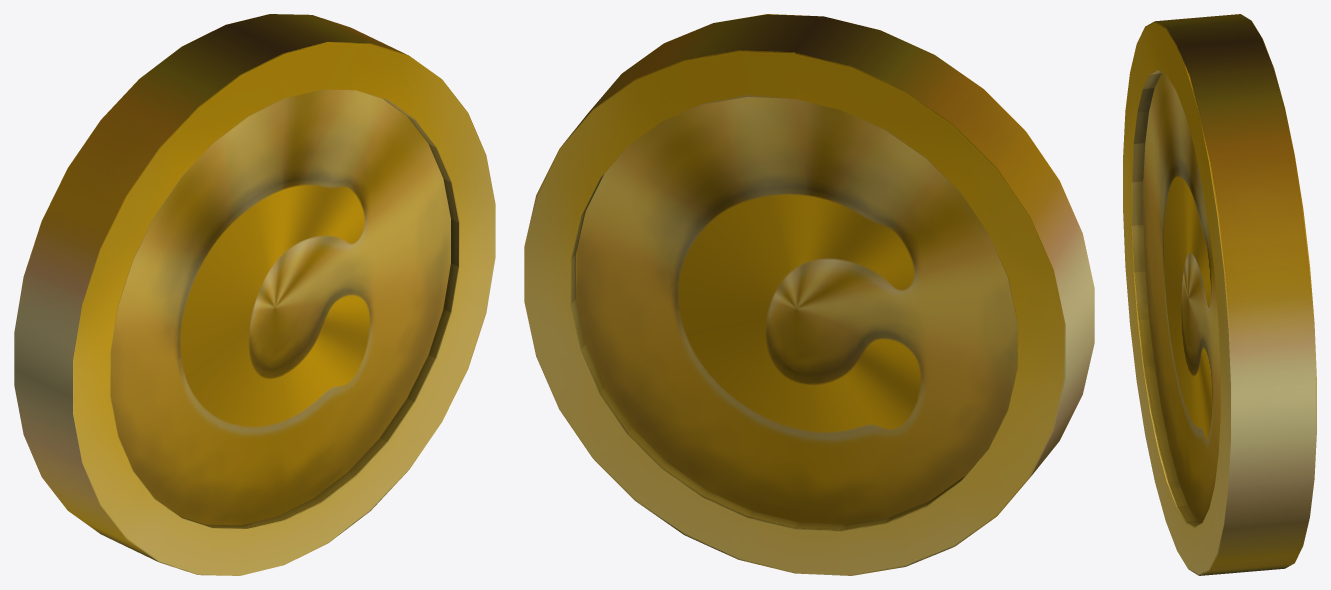
Rendered from coin.008_lev1.glb.
The picture shows the model from 3 angles, left to right: view 1: azimuth 30°, elevation 25°; view 2: azimuth 150°, elevation 25°; view 3: azimuth 270°, elevation 25°; orthographic projection. The views are drawn at different scales.
Parts seen in each view (by area): view 1: coin.008_lev1; view 2: coin.008_lev1; view 3: coin.008_lev1.
Boxes of the visible parts, x1=… form: coin.008_lev1: x1=14, y1=14, x2=495, y2=575; coin.008_lev1: x1=524, y1=14, x2=1094, y2=575; coin.008_lev1: x1=1123, y1=14, x2=1316, y2=575.
Size of the model in its own units: 0.4249 by 0.4223 by 0.1471.
Materials: 1 (1 with a texture image).
